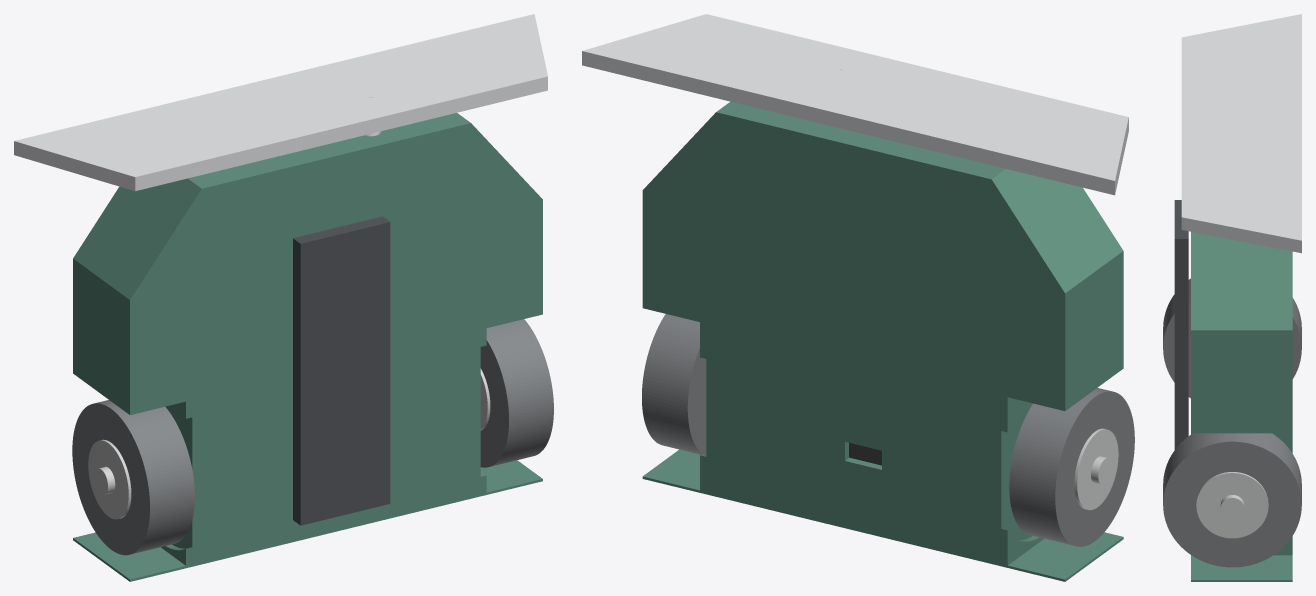
File: runtime_exception.glb
The picture shows the model from 3 angles, left to right: view 1: azimuth 30°, elevation 25°; view 2: azimuth 150°, elevation 25°; view 3: azimuth 270°, elevation 25°; orthographic projection. The views are drawn at different scales.
Visible parts, largest first — view 1: chassis, scoop, spine, wheel_r0, wheel_l0, dt_hub_wheel_r0; view 2: chassis, scoop, wheel_r0, wheel_l0, dt_hub_wheel_r0; view 3: scoop, chassis, wheel_l0, dt_hub_wheel_l0, spine, wheel_r0.
Boxes of the visible parts, <box> form: chassis: <box>73,113,542,581</box>; scoop: <box>14,14,547,191</box>; spine: <box>293,216,390,525</box>; wheel_r0: <box>72,400,194,555</box>; wheel_l0: <box>480,319,553,467</box>; dt_hub_wheel_r0: <box>88,439,131,519</box>; chassis: <box>642,101,1123,581</box>; scoop: <box>582,14,1128,195</box>; wheel_r0: <box>1009,388,1134,546</box>; wheel_l0: <box>642,314,706,455</box>; dt_hub_wheel_r0: <box>1074,428,1118,510</box>; scoop: <box>1181,14,1301,253</box>; chassis: <box>1191,231,1292,581</box>; wheel_l0: <box>1163,433,1301,567</box>; dt_hub_wheel_l0: <box>1196,472,1268,538</box>; spine: <box>1174,200,1188,449</box>; wheel_r0: <box>1163,278,1301,398</box>.
Bounding box in the file's own units: 116 × 87.04 × 30.
